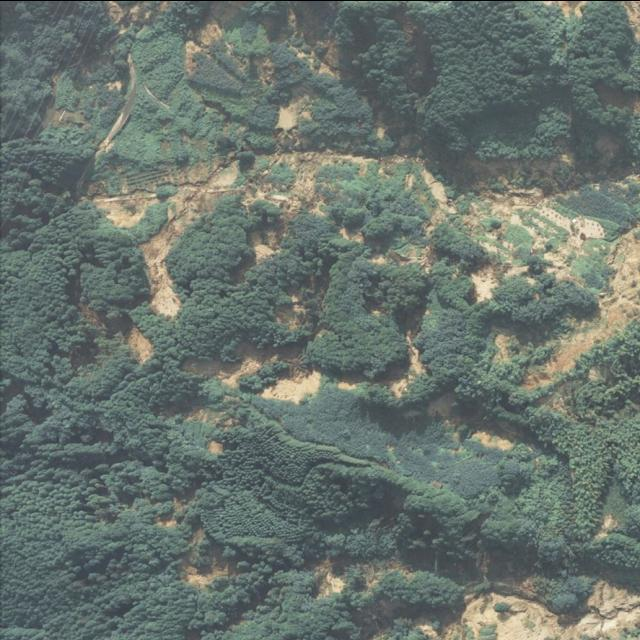landslide: (88, 148, 603, 317), (602, 227, 638, 323)
